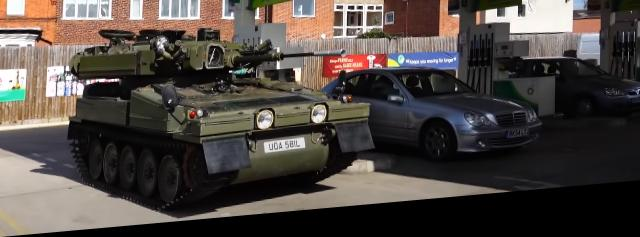tank: (67, 36, 291, 216)
